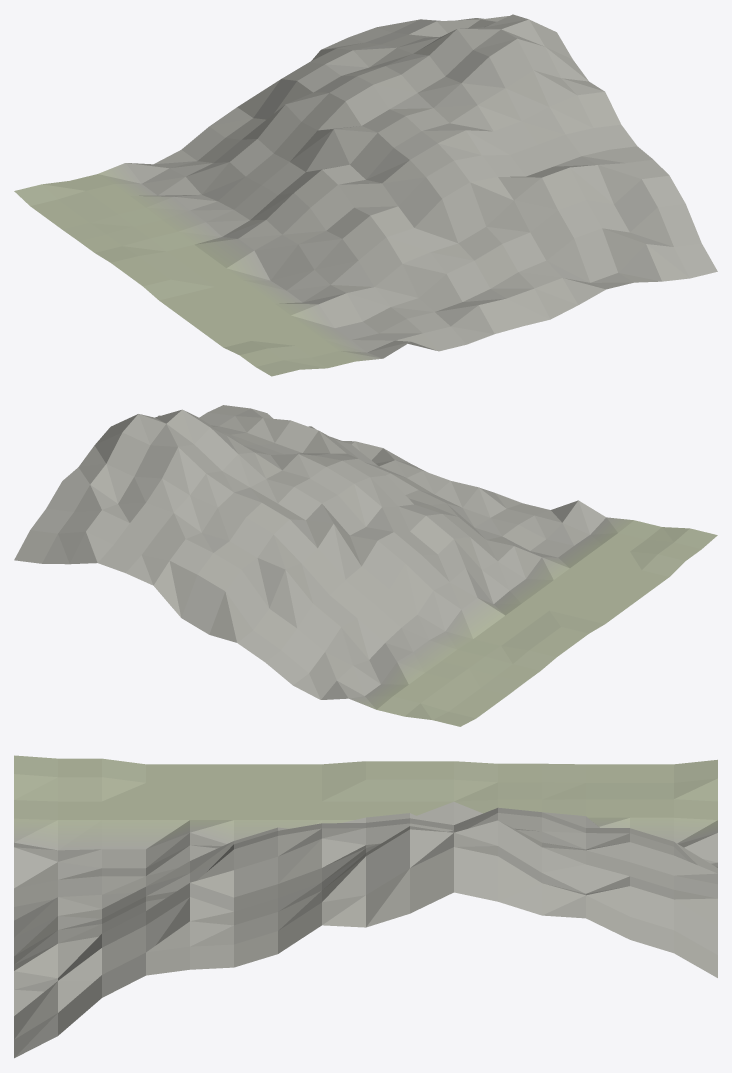
3 views of the same model, one above another, from view 1: azimuth 30°, elevation 25°; view 2: azimuth 150°, elevation 25°; view 3: azimuth 270°, elevation 25° (orthographic). The views are drawn at different scales.
Bounding box in the file's own units: 32 × 10.48 × 32.
